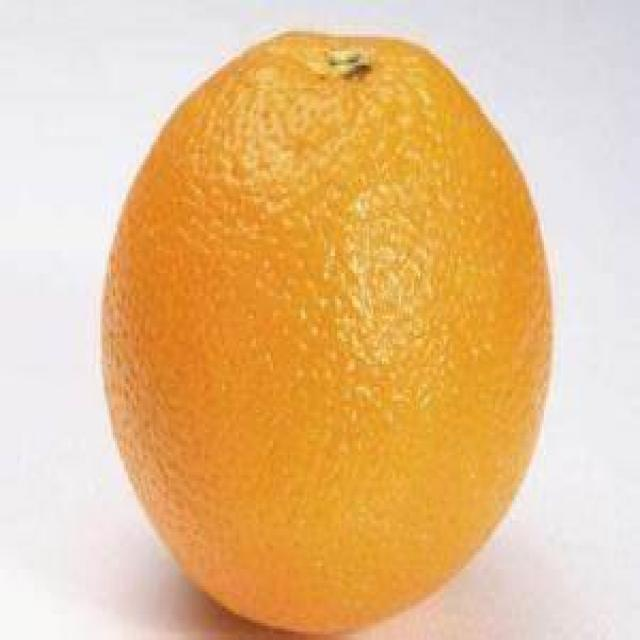Orange: (90, 28, 566, 636)
